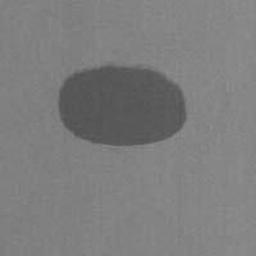Oil spot: (56, 63, 189, 147)
